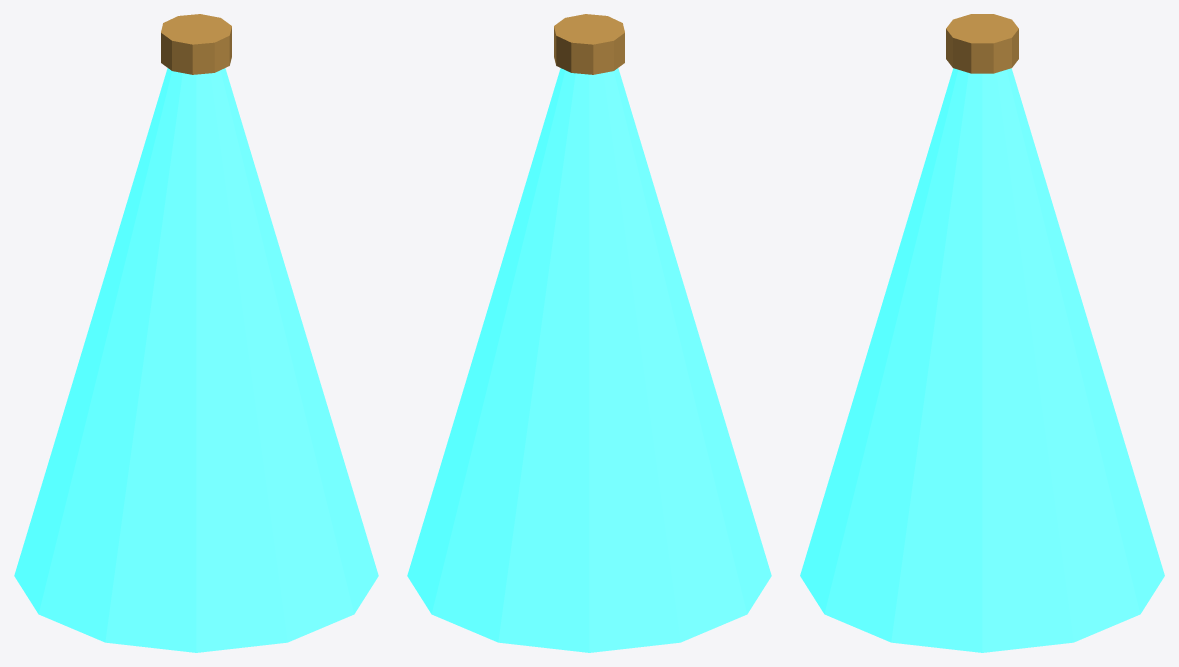
File: spotlight_cone.glb
3 renders of one model, left to right at view 1: azimuth 30°, elevation 25°; view 2: azimuth 150°, elevation 25°; view 3: azimuth 270°, elevation 25°, orthographic.
Parts seen in each view (by area): view 1: spotlight_beam, spotlight_cap; view 2: spotlight_beam, spotlight_cap; view 3: spotlight_beam, spotlight_cap.
Boxes of the visible parts, x1,y1,x2,y2 form: spotlight_beam: (14,68,378,652); spotlight_cap: (161,14,231,74); spotlight_beam: (407,68,771,652); spotlight_cap: (554,14,624,74); spotlight_beam: (800,68,1164,652); spotlight_cap: (946,14,1018,73).
Bounding box in the file's own units: 2.4 × 3.97 × 2.4.
